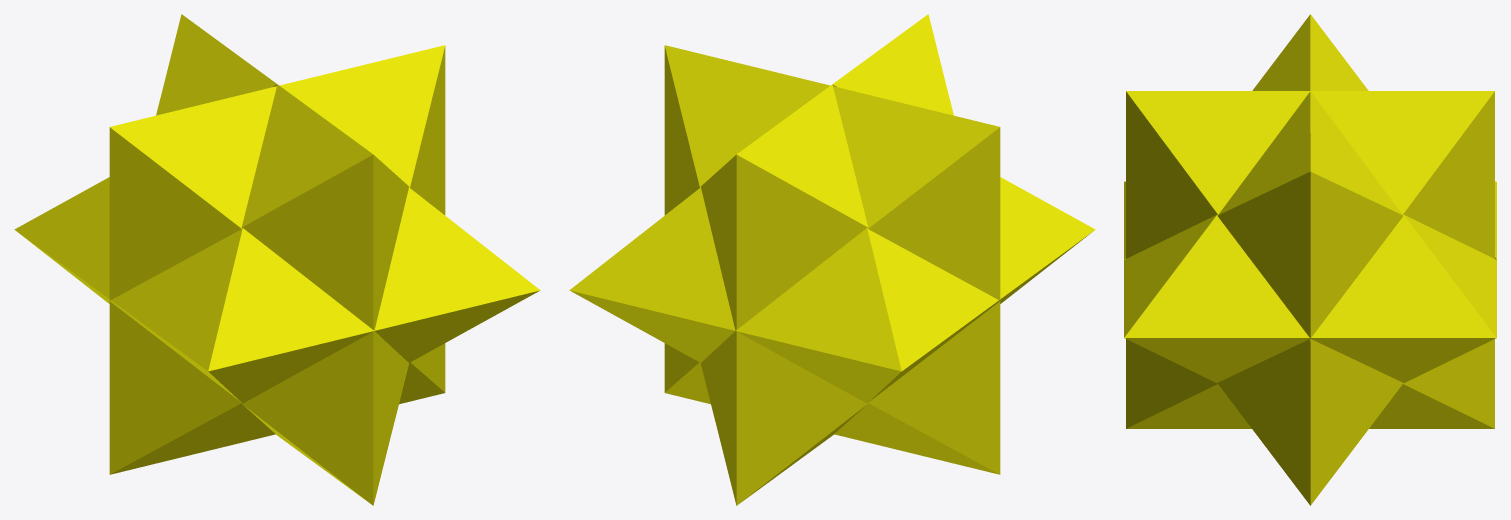
Rendered from sparkles.glb.
The picture shows the model from 3 angles, left to right: view 1: azimuth 30°, elevation 25°; view 2: azimuth 150°, elevation 25°; view 3: azimuth 270°, elevation 25°; orthographic projection. The views are drawn at different scales.
Parts seen in each view (by area): view 1: Cone.005, Cone.001, Cone.003, Cone.002, Cone.004, Cone.006; view 2: Cone.006, Cone.001, Cone.003, Cone.002, Cone.004, Cone.005; view 3: Cone.004, Cone.001, Cone.005, Cone.006, Cone.002.
Boxes of the visible parts, x1,y1,x2,y2 form: Cone.005: (241, 84, 409, 505); Cone.001: (109, 45, 445, 300); Cone.003: (14, 177, 373, 403); Cone.002: (109, 301, 445, 474); Cone.004: (374, 187, 540, 362); Cone.006: (156, 14, 277, 115); Cone.006: (700, 84, 868, 505); Cone.001: (664, 45, 1000, 300); Cone.003: (736, 177, 1095, 403); Cone.002: (664, 301, 1000, 474); Cone.004: (569, 187, 735, 362); Cone.005: (832, 14, 953, 115); Cone.004: (1124, 214, 1496, 382); Cone.001: (1217, 14, 1403, 338); Cone.005: (1126, 91, 1310, 428); Cone.006: (1310, 91, 1494, 428); Cone.002: (1217, 339, 1403, 505).
Size of the model in its own units: 0.5896 by 0.5896 by 0.5896.
